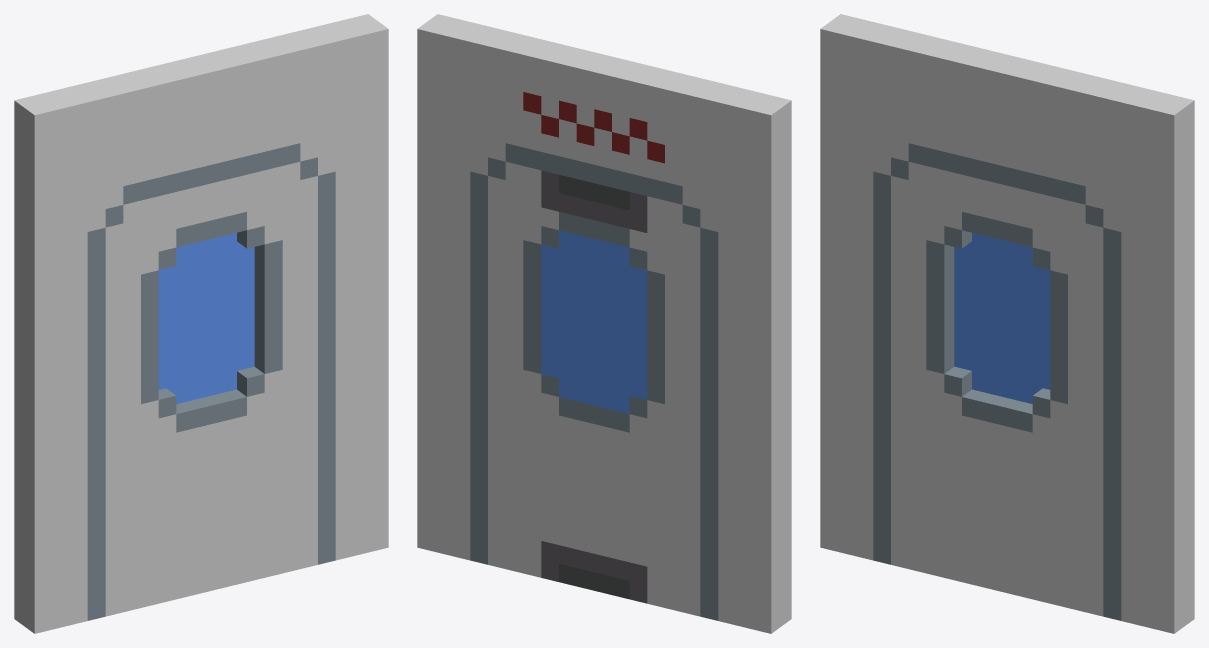
Rendered from emergency_door_wall_separated.gltf.
3 renders of one model, left to right at view 1: azimuth 30°, elevation 25°; view 2: azimuth 150°, elevation 25°; view 3: azimuth 330°, elevation 25°, orthographic.
Visible parts, largest first — view 1: Frame, Door, Glass; view 2: Frame, Door, Glass; view 3: Frame, Door, Glass.
Boxes of the visible parts, box(x1,y1,x2,y2) form: Frame: box(14, 14, 388, 633); Door: box(87, 143, 335, 620); Glass: box(158, 232, 254, 403); Frame: box(417, 14, 791, 633); Door: box(470, 143, 718, 620); Glass: box(541, 230, 647, 413); Frame: box(820, 14, 1194, 633); Door: box(873, 143, 1121, 620); Glass: box(954, 232, 1050, 403).
Bounding box in the file's own units: 20 × 28 × 2.
